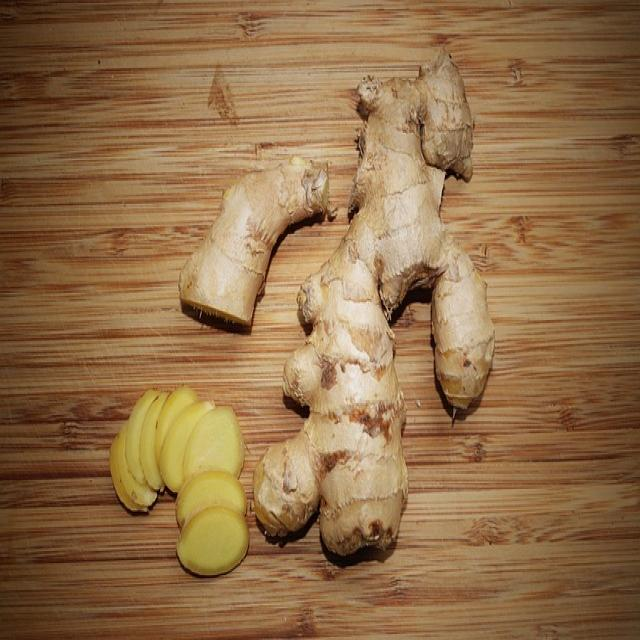ginger-root: (248, 17, 515, 587)
